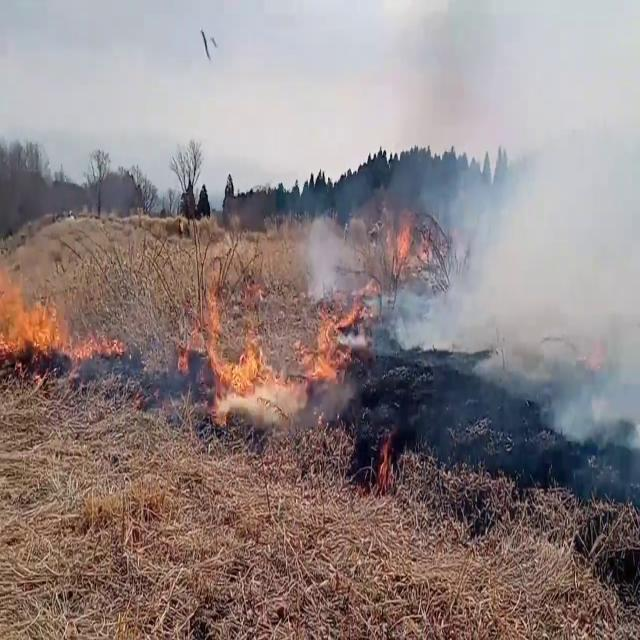Fire: (191, 276, 289, 430), (0, 244, 70, 358), (307, 306, 369, 393), (70, 327, 126, 365)
Smoke: (424, 57, 640, 426), (300, 198, 362, 304)
